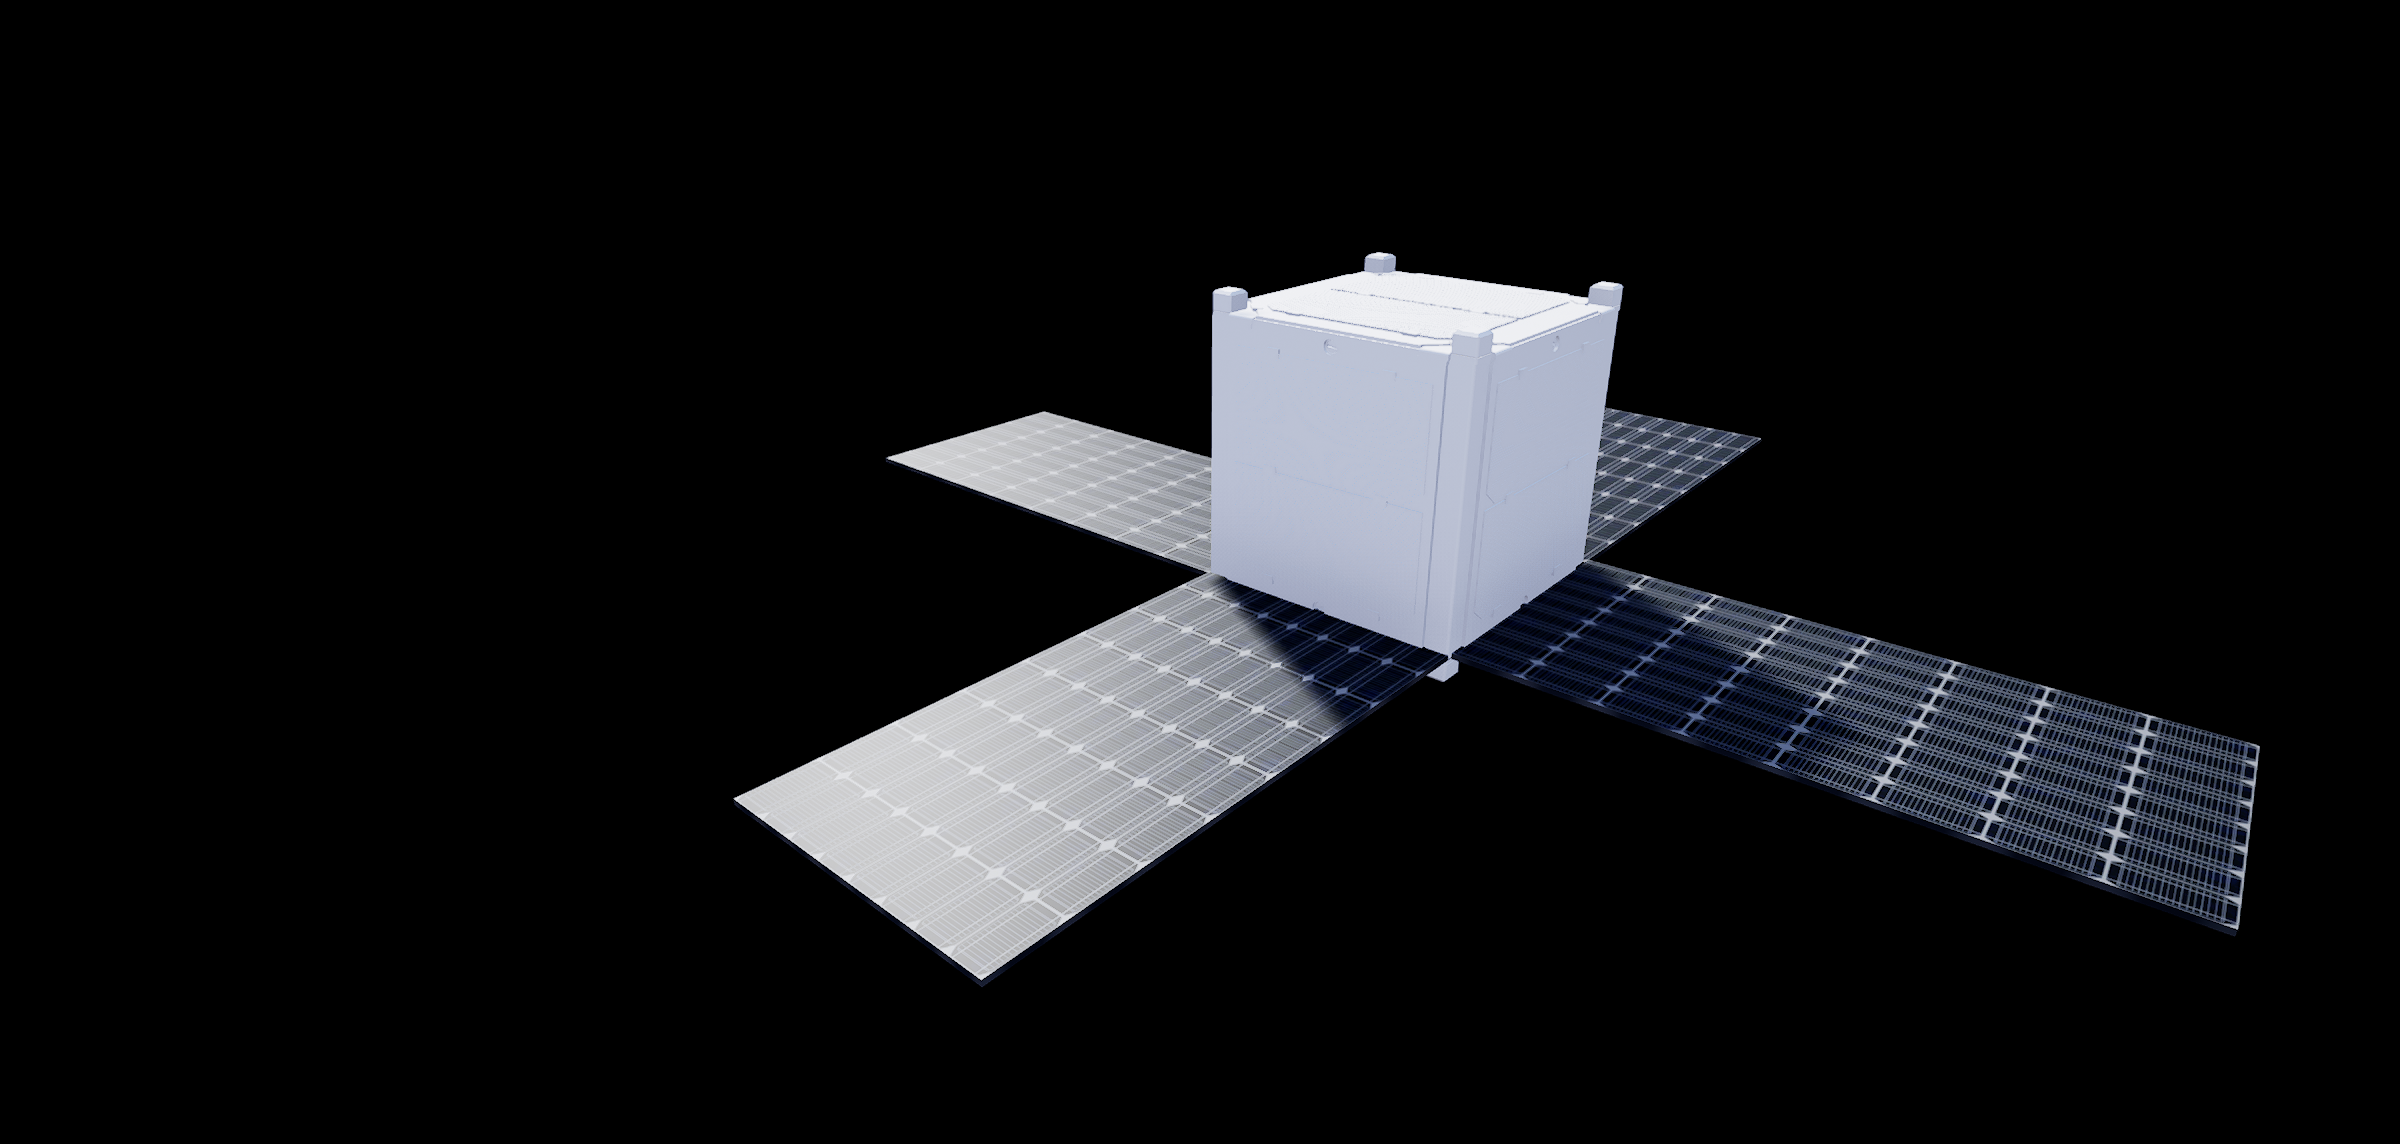satellite: (713, 156, 2290, 1038)
